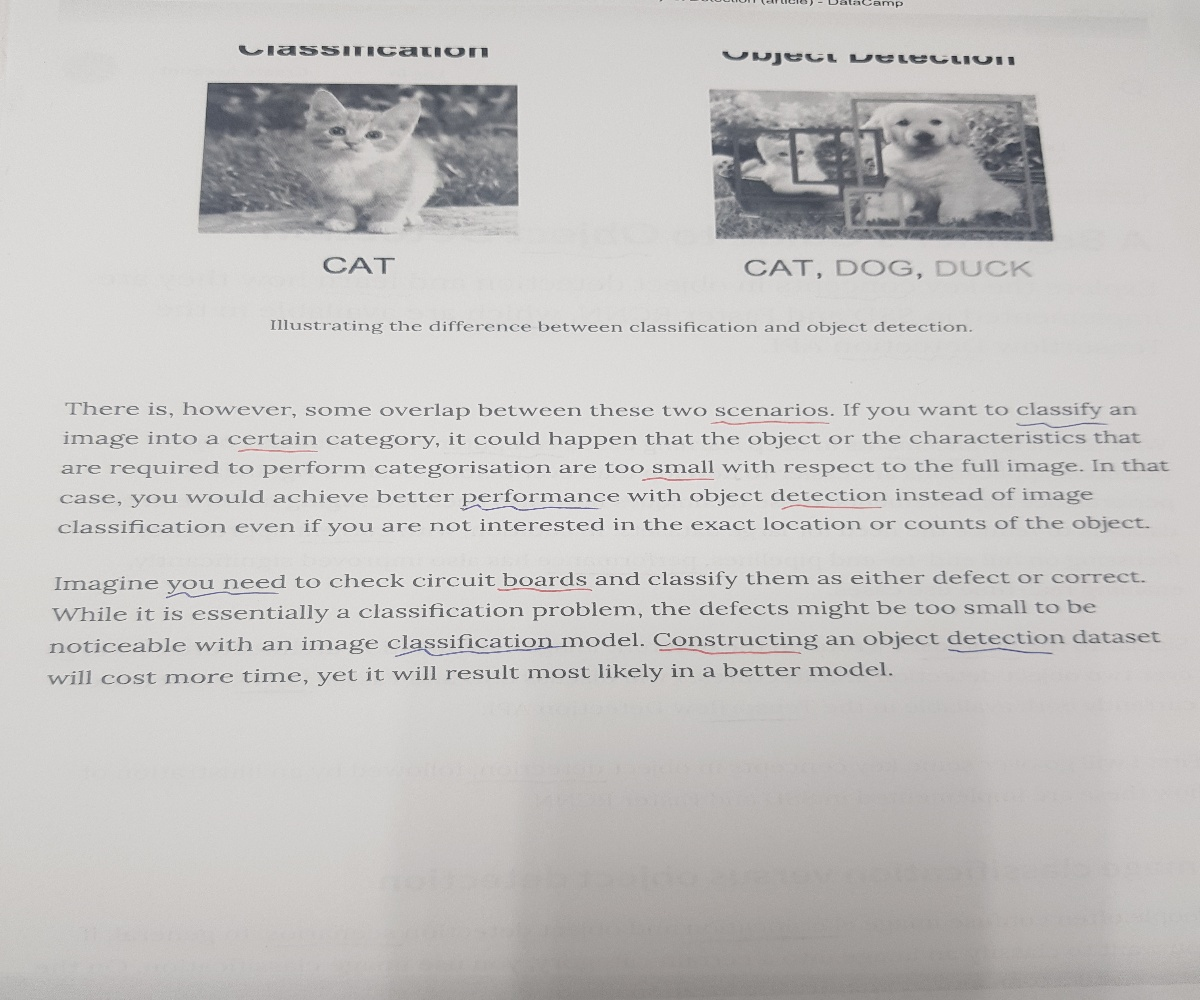underline: (655, 645, 811, 661), (391, 648, 572, 660), (458, 502, 603, 516), (164, 588, 288, 604), (944, 644, 1057, 658), (777, 502, 887, 516), (709, 416, 835, 428), (495, 585, 595, 598), (1011, 419, 1112, 430), (233, 445, 320, 457), (641, 472, 713, 485)
